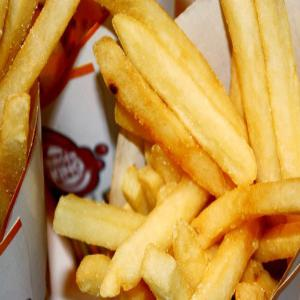fries_350cal: (82, 6, 300, 299)
